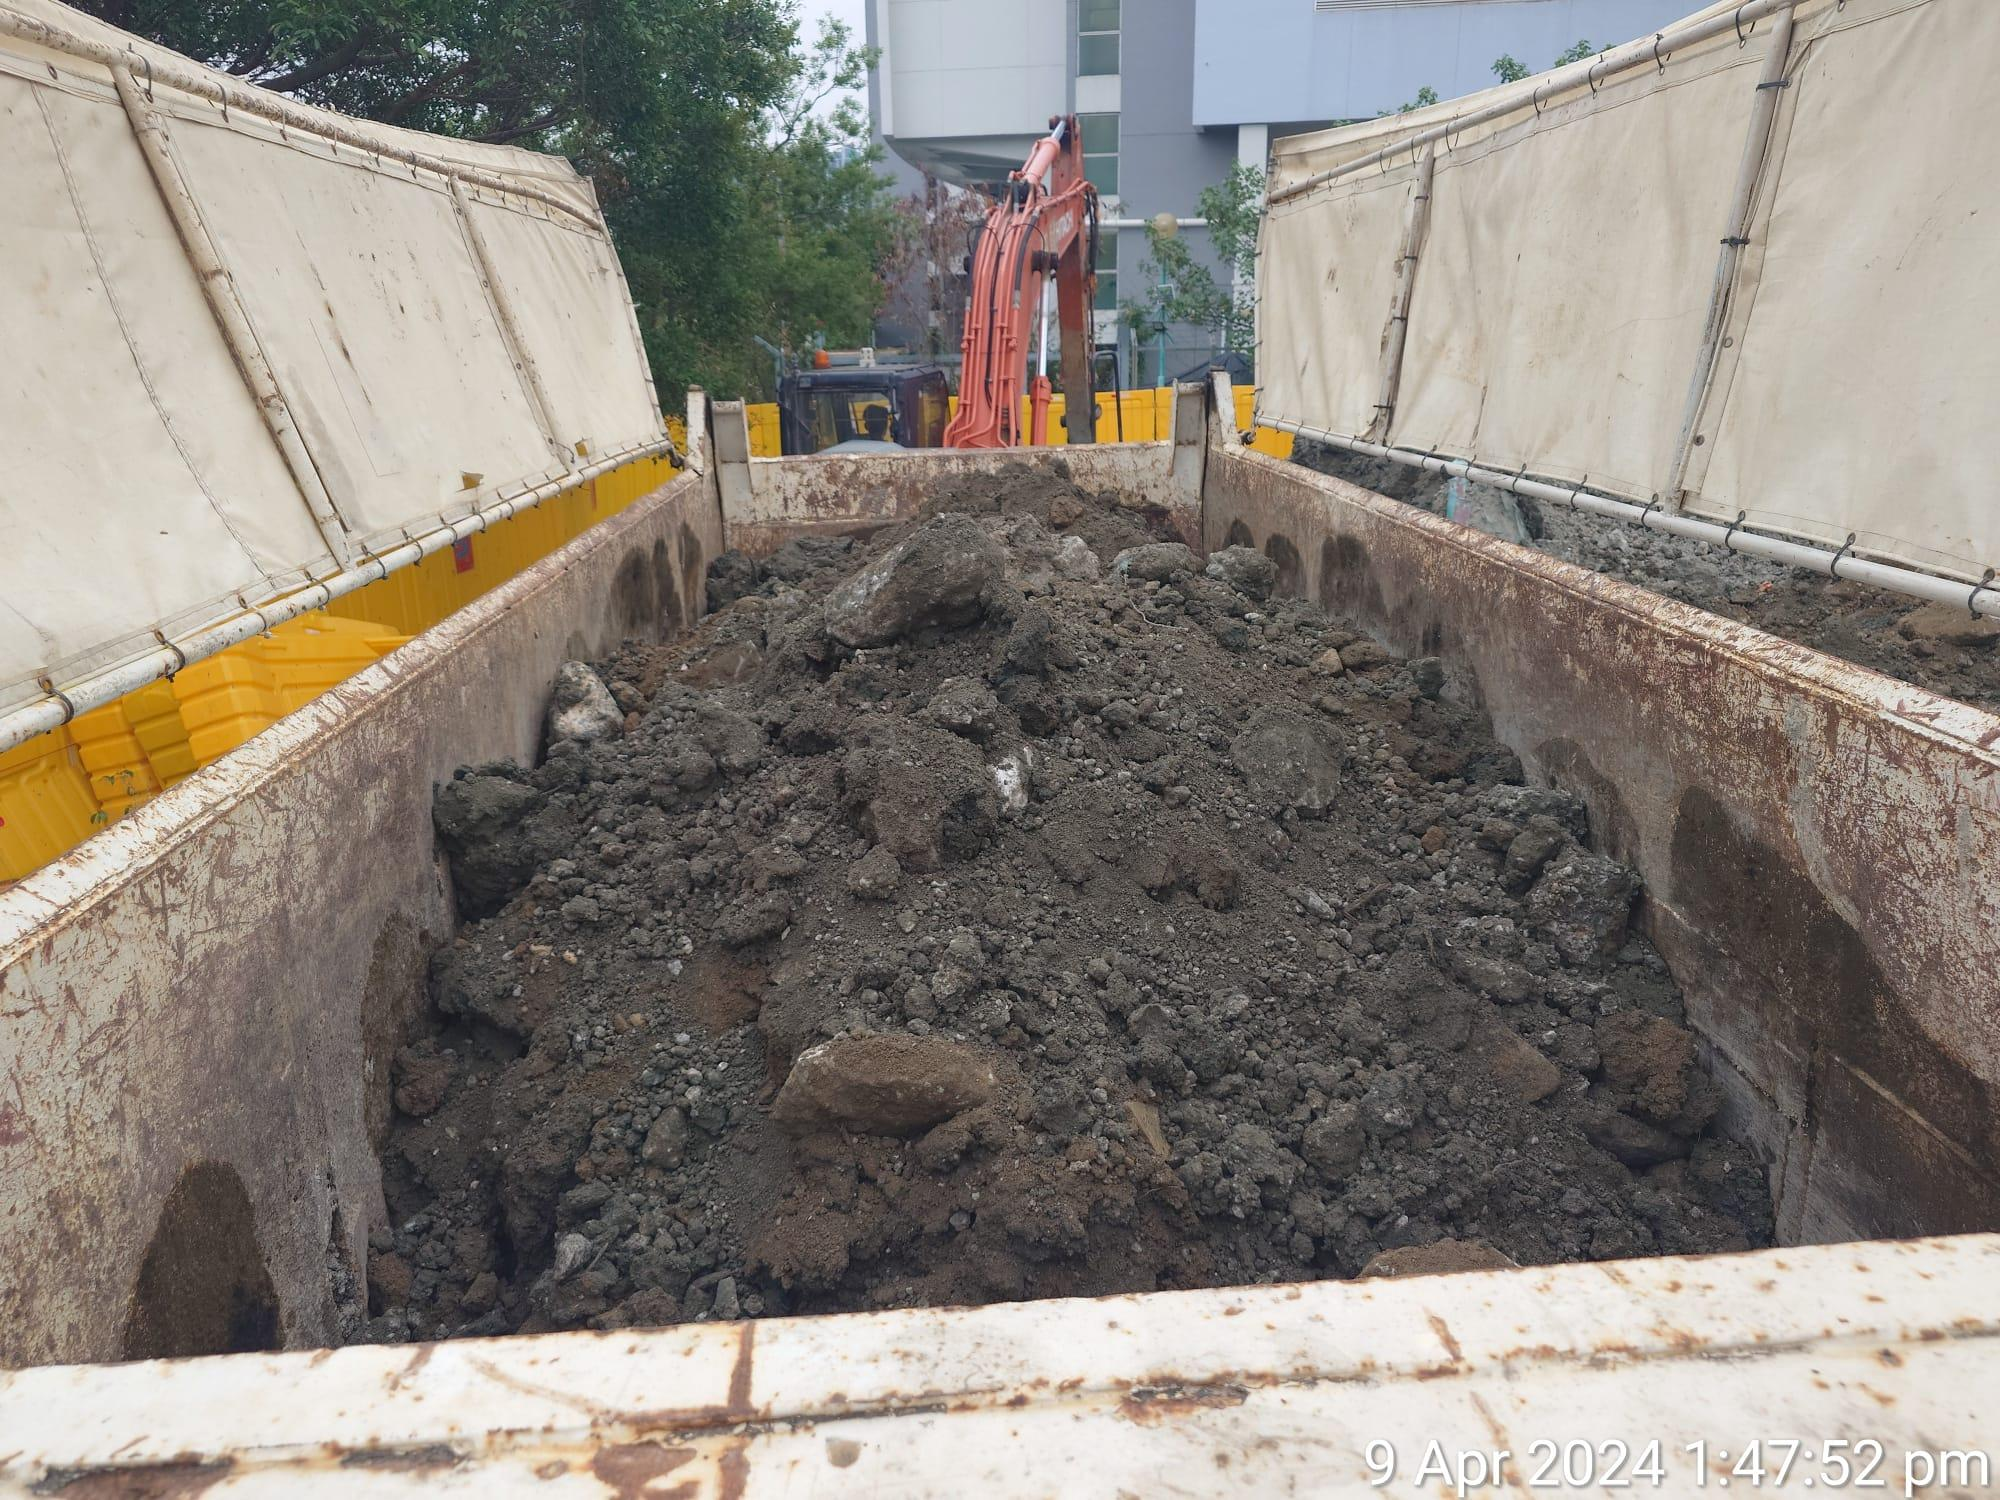wet: (375, 457, 1770, 1342)
